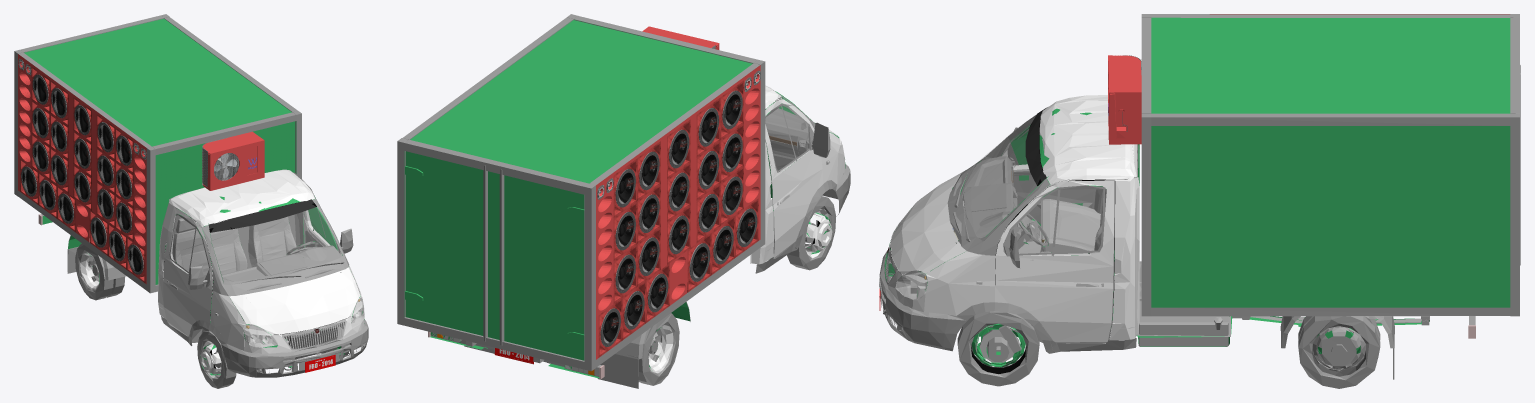
File: caminhao_verde.glb
3 views of the same model, side by side, from view 1: azimuth 30°, elevation 25°; view 2: azimuth 150°, elevation 25°; view 3: azimuth 270°, elevation 25° (orthographic). The views are drawn at different scales.
Parts seen in each view (by area): view 1: object 1, wheel1, wheel5, wheel4; view 2: object 1, wheel1, wheel5, wheel4; view 3: object 1, wheel2, wheel0.
Part boxes in pixels (x1,y1,x2,y2): object 1: (14, 14, 368, 377); wheel1: (197, 330, 236, 388); wheel5: (75, 243, 113, 300); wheel4: (80, 252, 124, 297); object 1: (397, 14, 850, 388); wheel1: (787, 196, 836, 270); wheel5: (638, 313, 679, 385); wheel4: (648, 324, 673, 373); object 1: (879, 14, 1520, 379); wheel2: (1298, 316, 1380, 388); wheel0: (957, 311, 1039, 386).
Size of what is drawn, in the model's own units: 1.88 by 2.23 by 4.6.
Materials: 80 (14 with a texture image).
